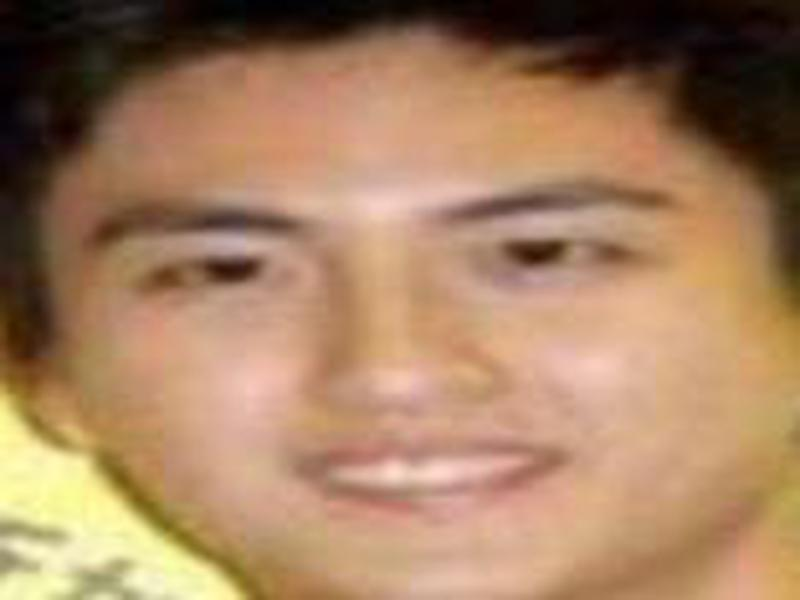without_mask: (38, 87, 765, 593)
